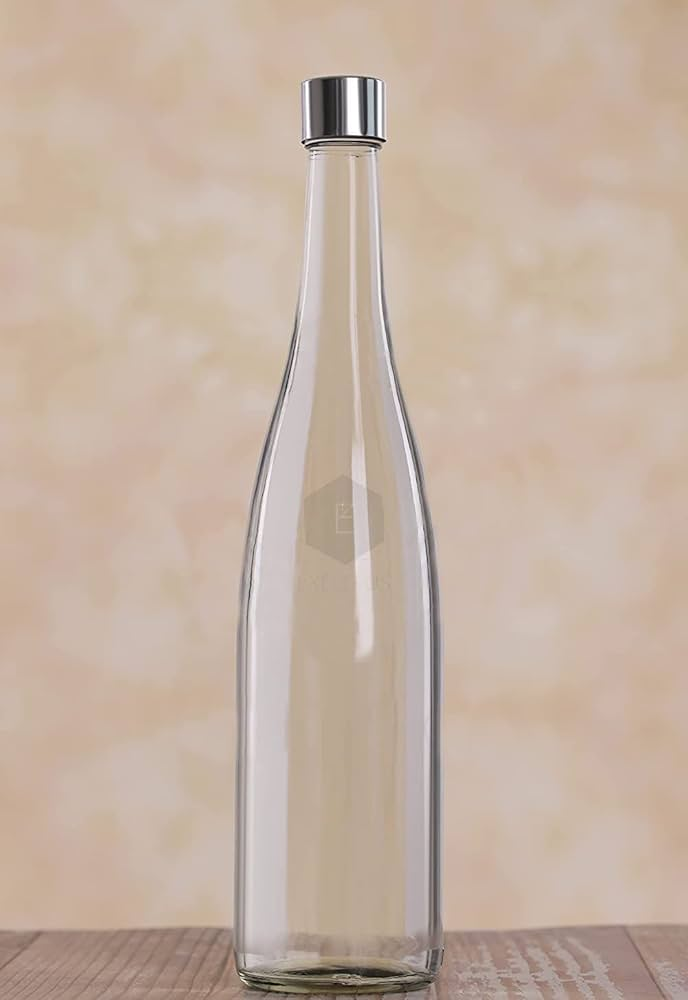glass_bottle: (215, 67, 463, 999)
